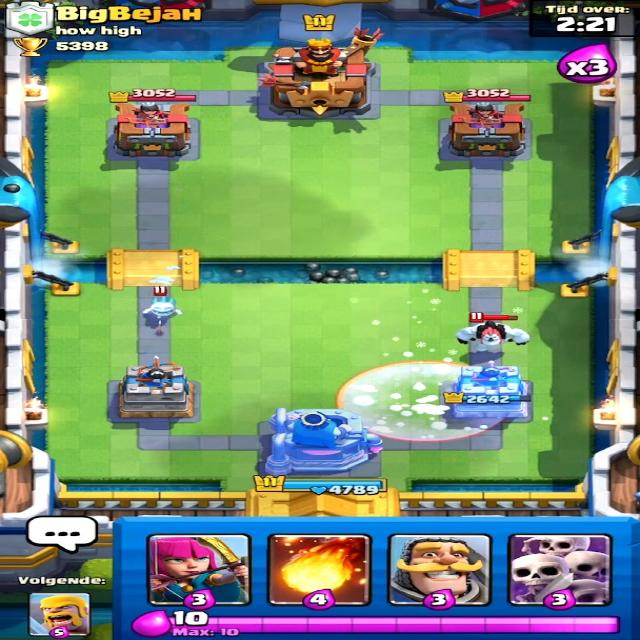Enemy_Ice_Golem_Troop: (452, 318, 531, 353)
Enemy_Ice_Spirit_Troop: (127, 294, 188, 318)
Fireball_Card: (274, 534, 370, 605)
